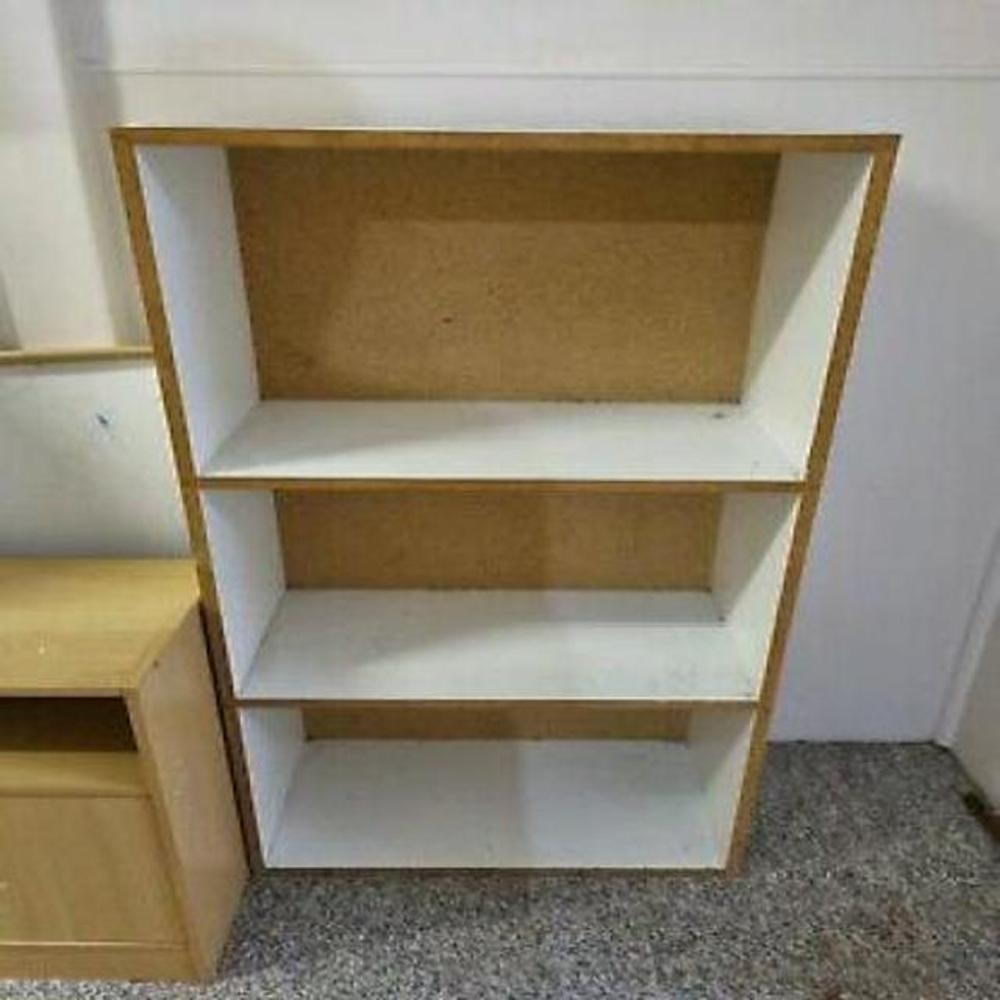lamp: (98, 120, 907, 885)
